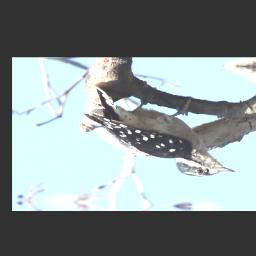Woodpecker: (76, 86, 246, 179)
